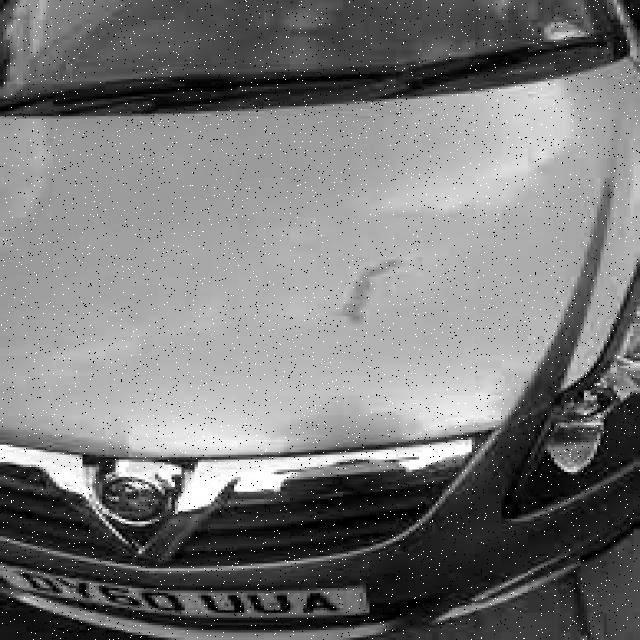bonnet-dent: (0, 93, 634, 495)
